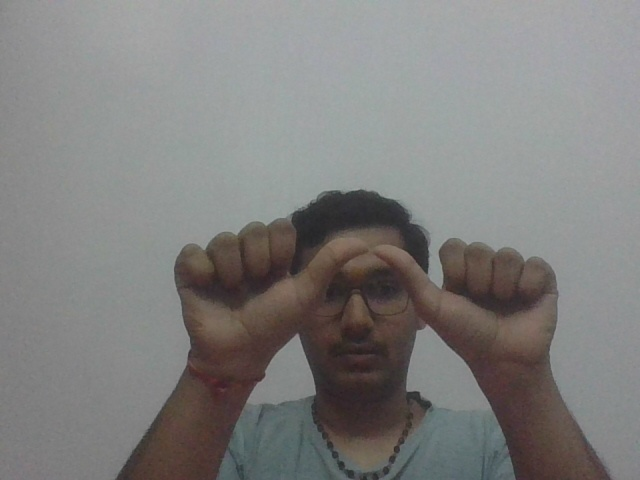A: (166, 215, 583, 364)
